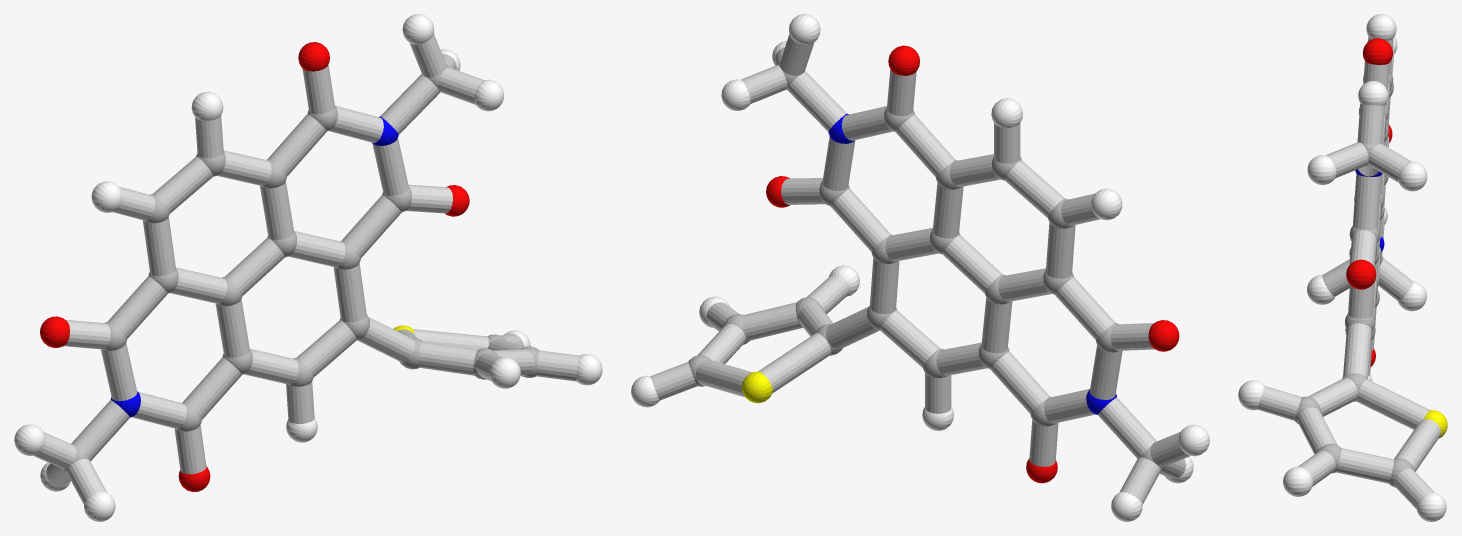
The model's file is Dimethyl_Naphthalene_Dicarboximide_Phi_20_Theta_80_Thiophene.glb.
The picture shows the model from 3 angles, left to right: view 1: azimuth 30°, elevation 25°; view 2: azimuth 150°, elevation 25°; view 3: azimuth 270°, elevation 25°; orthographic projection. The views are drawn at different scales.
Parts seen in each view (by area): view 1: grp14119, grp7241, grp1, grp12309, grp11585; view 2: grp14119, grp7241, grp1, grp12309, grp13757, grp11585; view 3: grp14119, grp7241, grp1, grp12309, grp13757.
Boxes of the visible parts, x1,y1,x2,y2 form: grp14119: (33,33,579,504); grp7241: (14,14,602,521); grp1: (61,64,539,473); grp12309: (40,42,469,491); grp11585: (110,116,398,417); grp14119: (650,34,1190,504); grp7241: (631,14,1209,521); grp1: (688,62,1166,470); grp12309: (766,45,1179,483); grp13757: (742,371,772,403); grp11585: (828,113,1116,414); grp14119: (1257,36,1441,508); grp7241: (1238,14,1446,521); grp1: (1294,73,1413,487); grp12309: (1346,38,1392,366); grp13757: (1423,410,1447,438).
Bounding box in the file's own units: 11.9 × 8.64 × 4.16.
